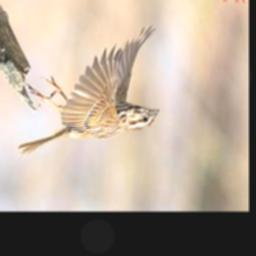Sparrow: (13, 24, 159, 165)
